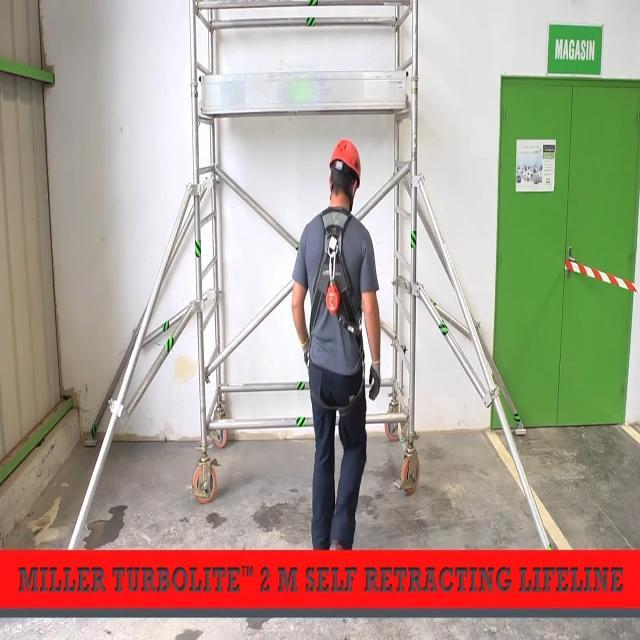belt: (304, 207, 366, 416), (91, 42, 94, 45)
